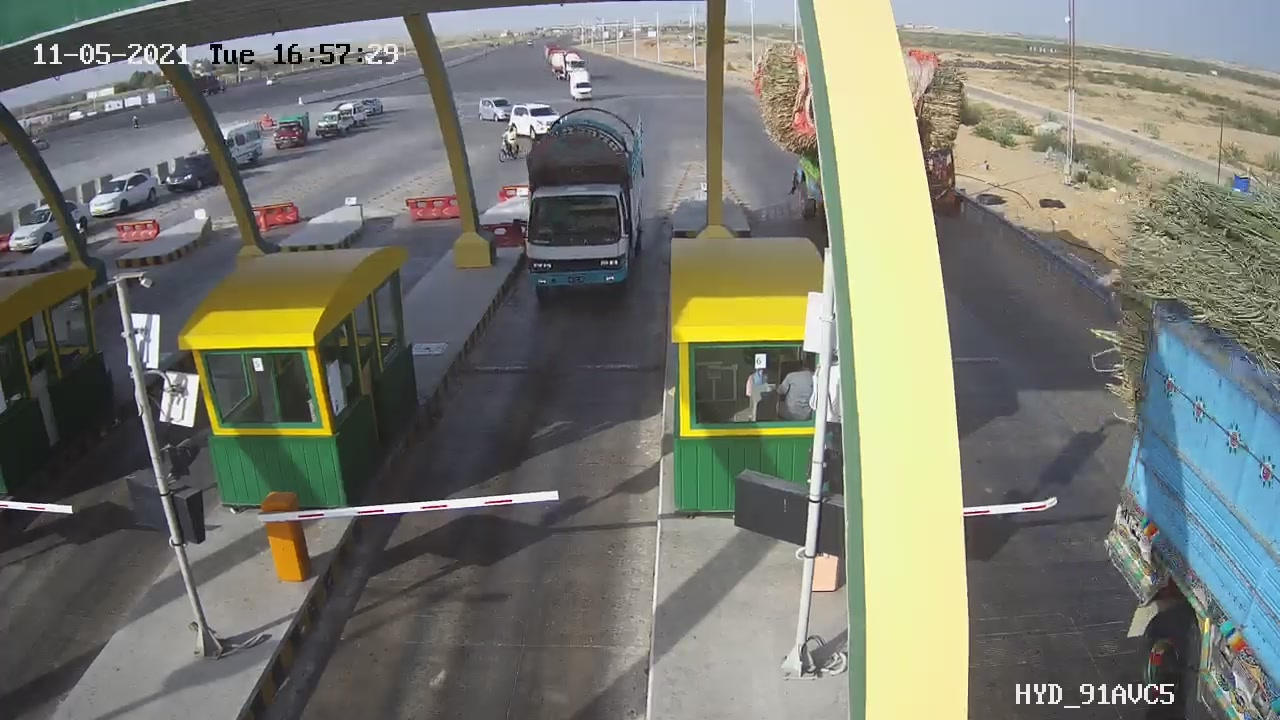F5: (498, 93, 665, 316)
